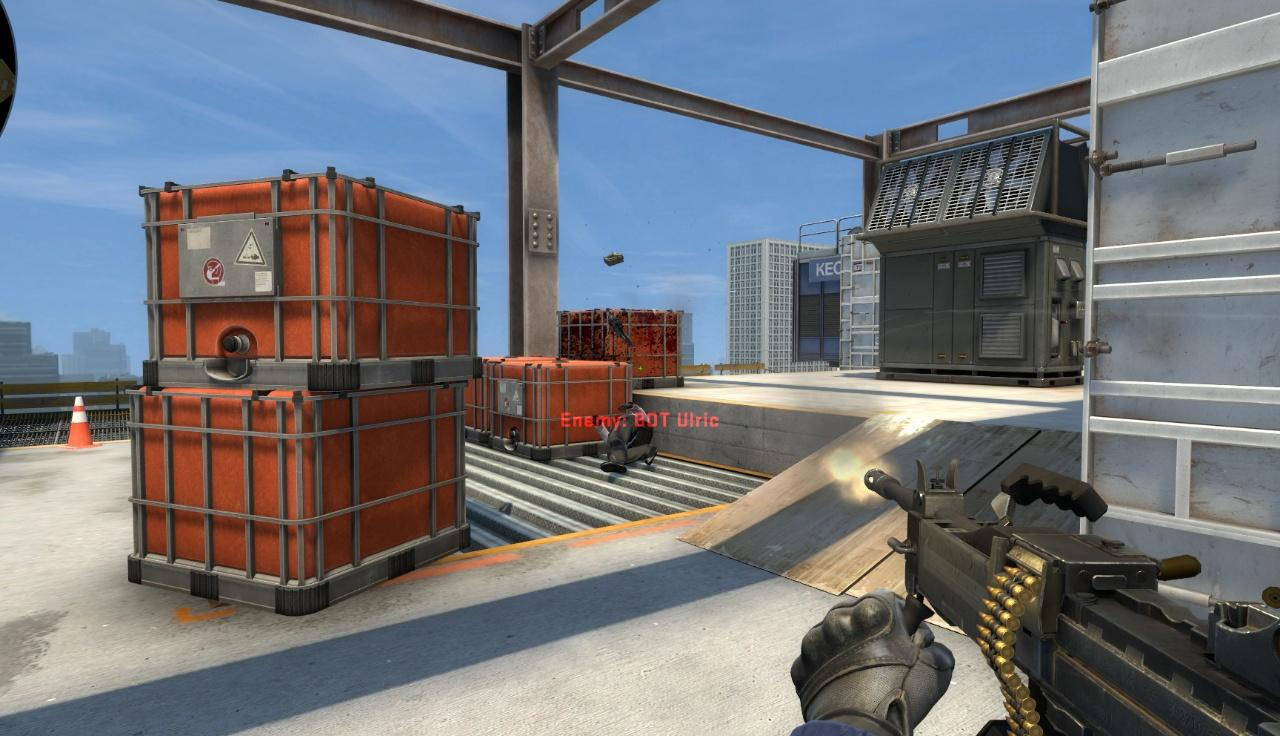rifle: (847, 448, 1280, 736)
